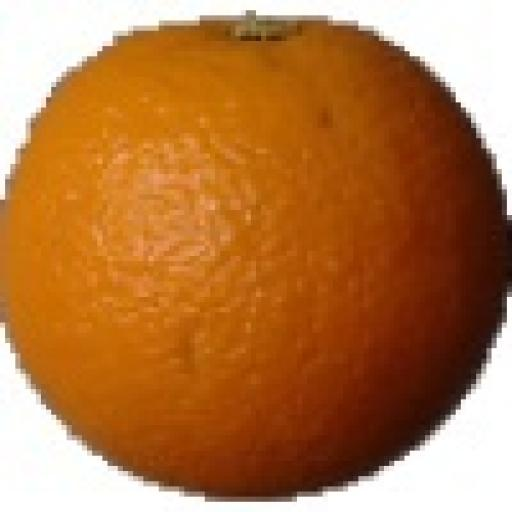orange: (6, 21, 506, 496)
